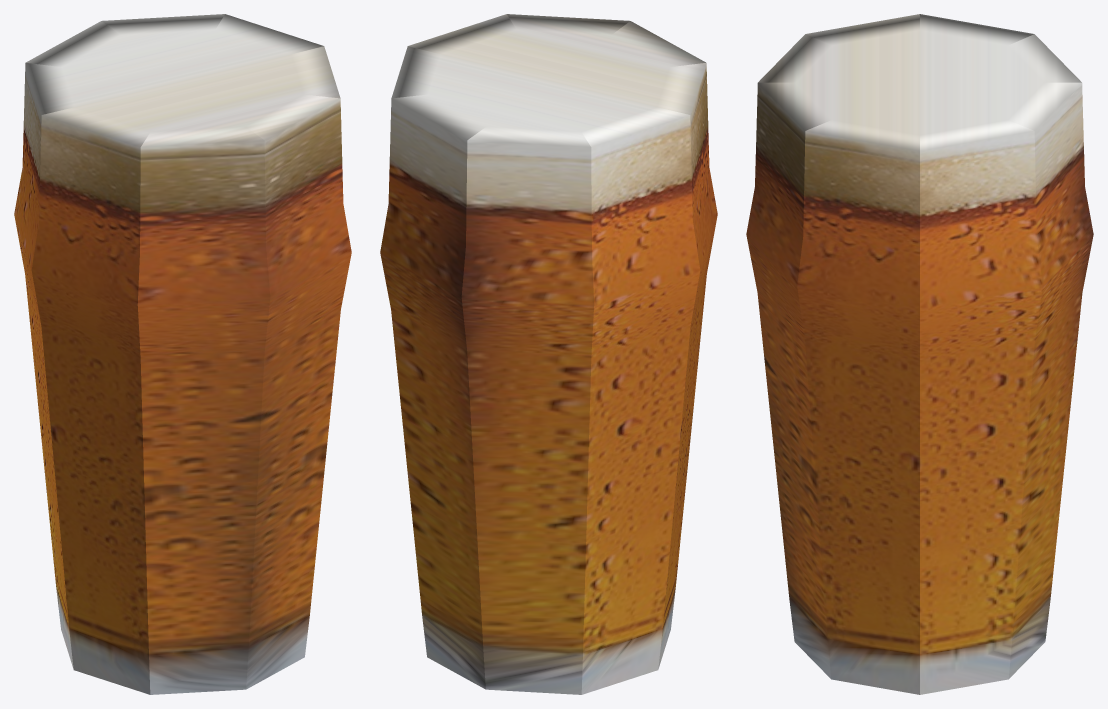
File: beer2m.fbx
3 renders of one model, left to right at view 1: azimuth 30°, elevation 25°; view 2: azimuth 150°, elevation 25°; view 3: azimuth 270°, elevation 25°, orthographic.
Parts seen in each view (by area): view 1: pCylinder11; view 2: pCylinder11; view 3: pCylinder11.
Boxes of the visible parts, left/top/right/bottom form: pCylinder11: left=14, top=14, right=351, bottom=694; pCylinder11: left=380, top=14, right=717, bottom=694; pCylinder11: left=746, top=14, right=1093, bottom=694.
Bounding box in the file's own units: 1.92 × 3.41 × 1.92.
Materials: 1 (1 with a texture image).
